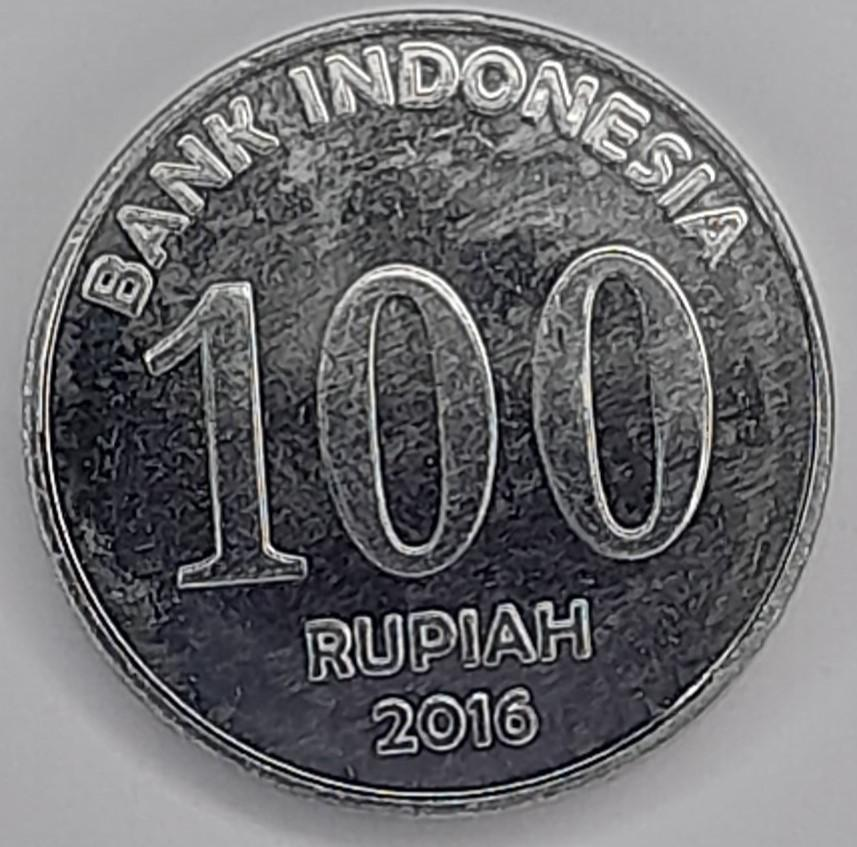coin_100_e2016: (15, 2, 840, 820)
